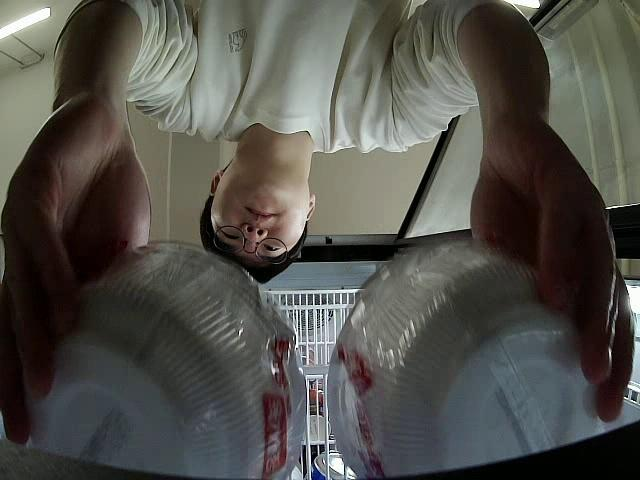09_yukGaeJang: (325, 237, 616, 480), (35, 237, 306, 480)
